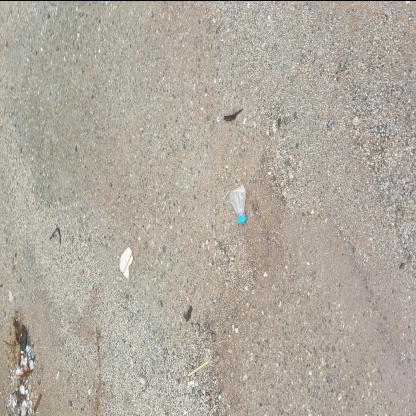plastik: (190, 229, 236, 249)
